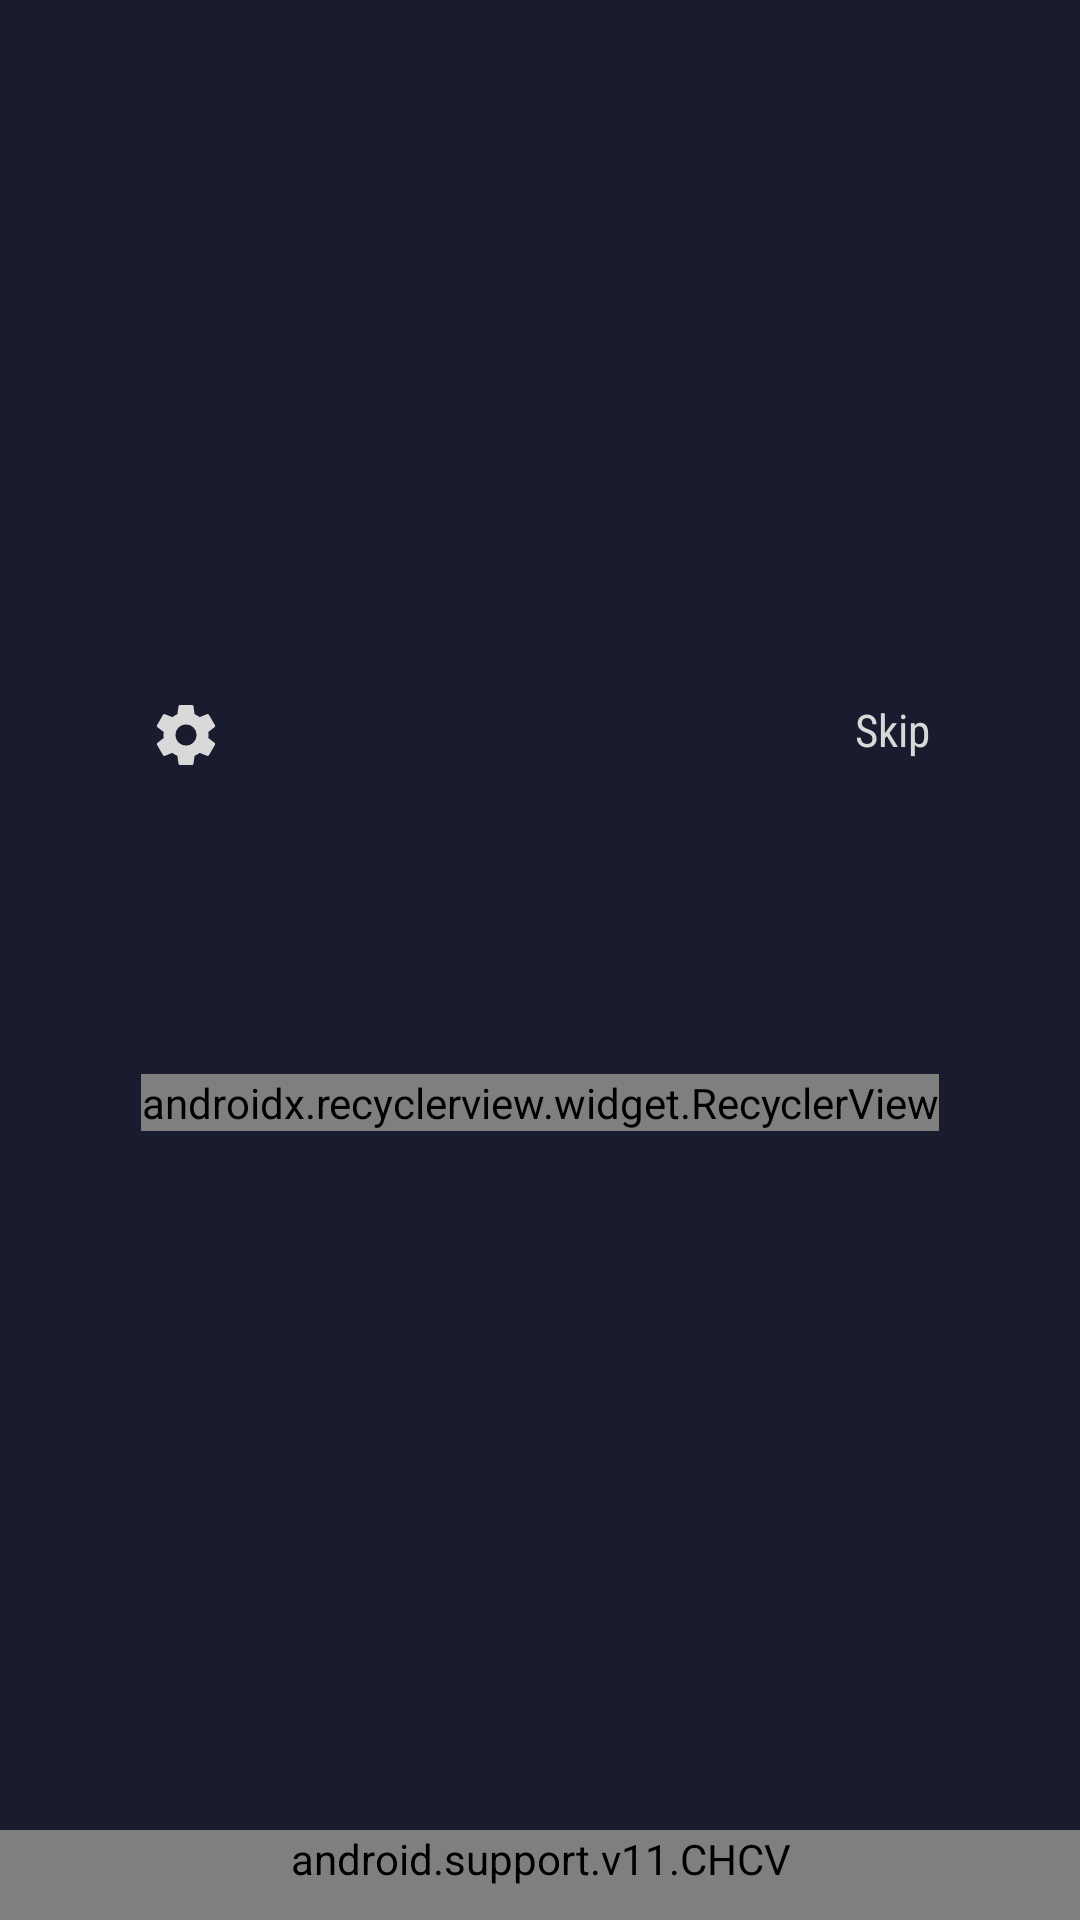

Icon bounding boxes for this 1080 × 1920 phone screenshot, format region(x1, y1, x2, y2):
settings: region(157, 705, 215, 765)
